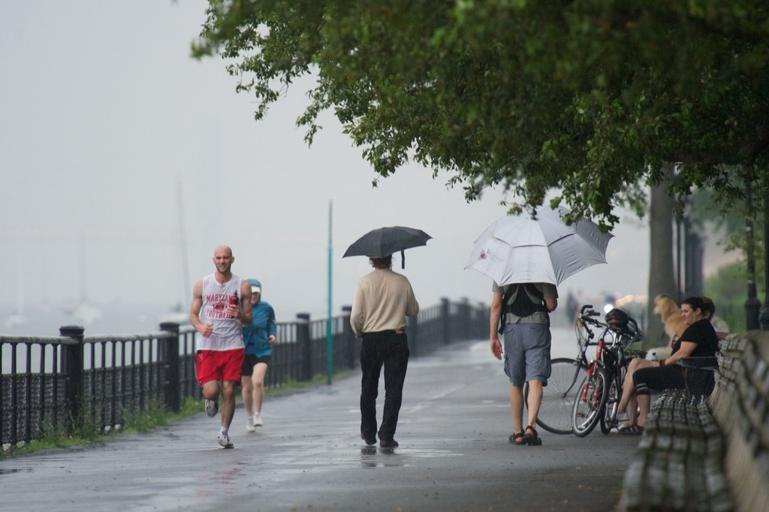non-vehicle: (519, 300, 649, 435), (569, 306, 626, 437)
